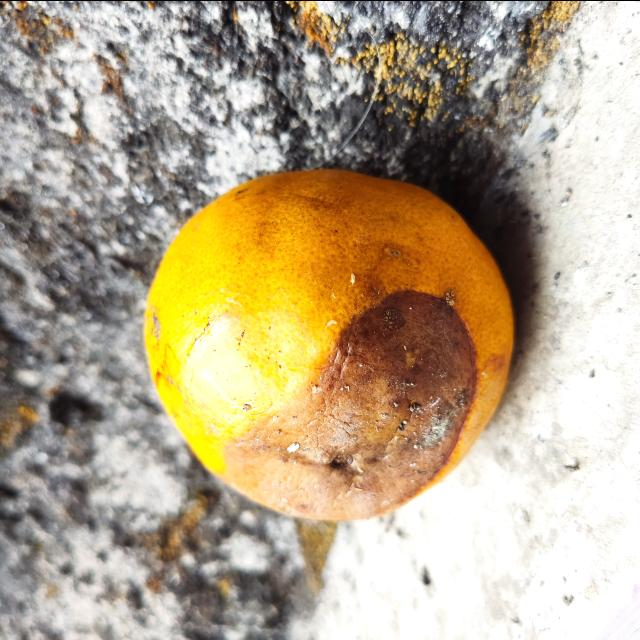orange: (144, 168, 512, 522)
